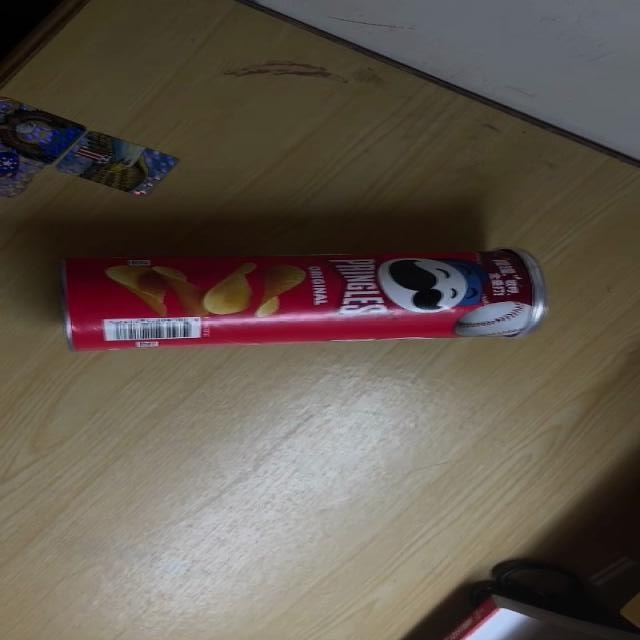Pringles: (62, 246, 546, 354)
